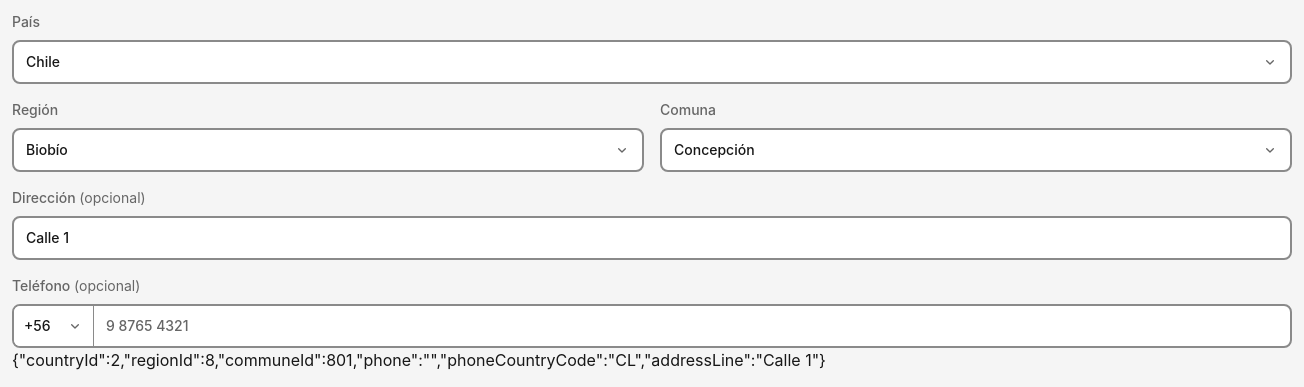
it: UserContactFields › clears and hides Chilean territory fields when country changes
Step 1. Click the button with aria-label "País" → (43, 62), box [12, 40, 1292, 84]
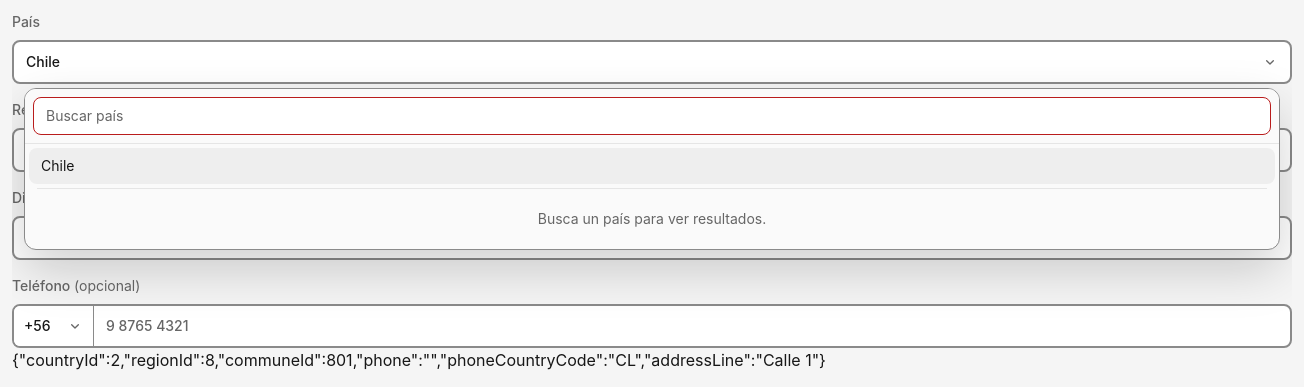
Step 2. Type "Argentina" into the search field labelled "Buscar país" → (652, 116), box [33, 97, 1271, 135]
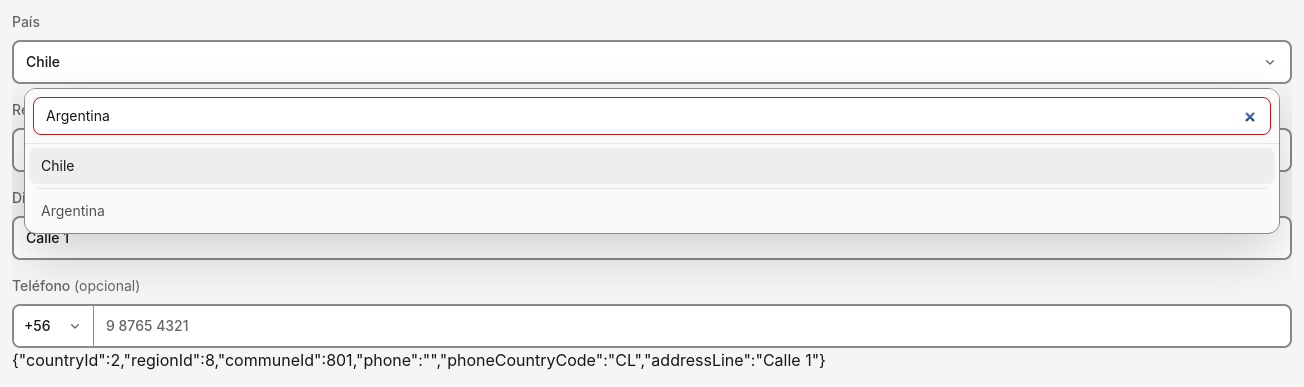
Step 3. Click the option "Argentina" → (73, 210), box [29, 193, 1275, 229]
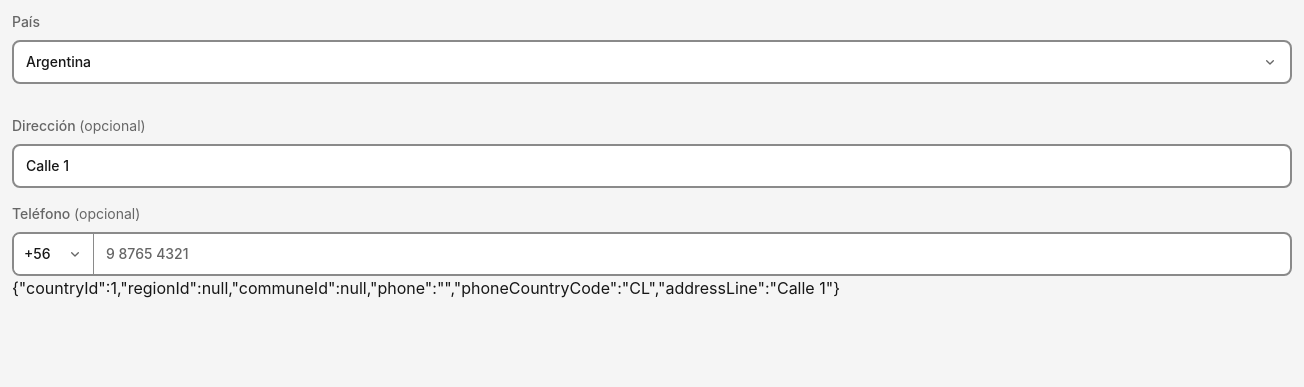
Expected: the text "Comuna" is not shown
Now the text "Región" is gone
Now the text with test id "contact-state" shows "\"regionId\":null,\"communeId\":null", box [12, 278, 840, 298]
